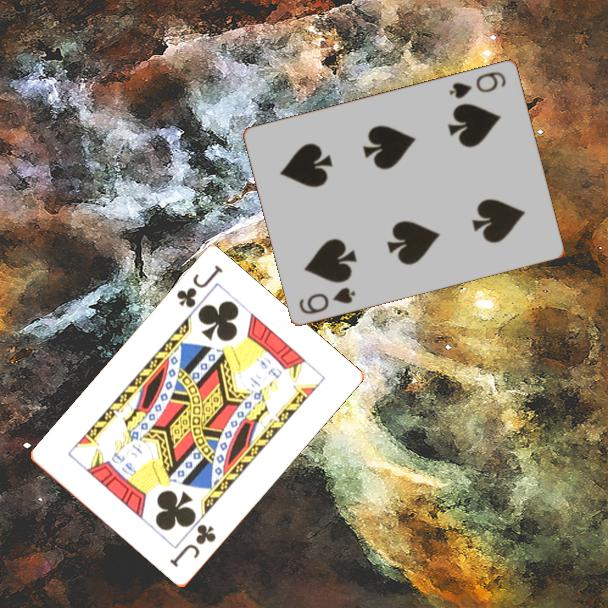c11: (166, 521, 219, 571), (173, 262, 226, 311)
s06: (296, 283, 359, 317), (446, 68, 509, 101)
